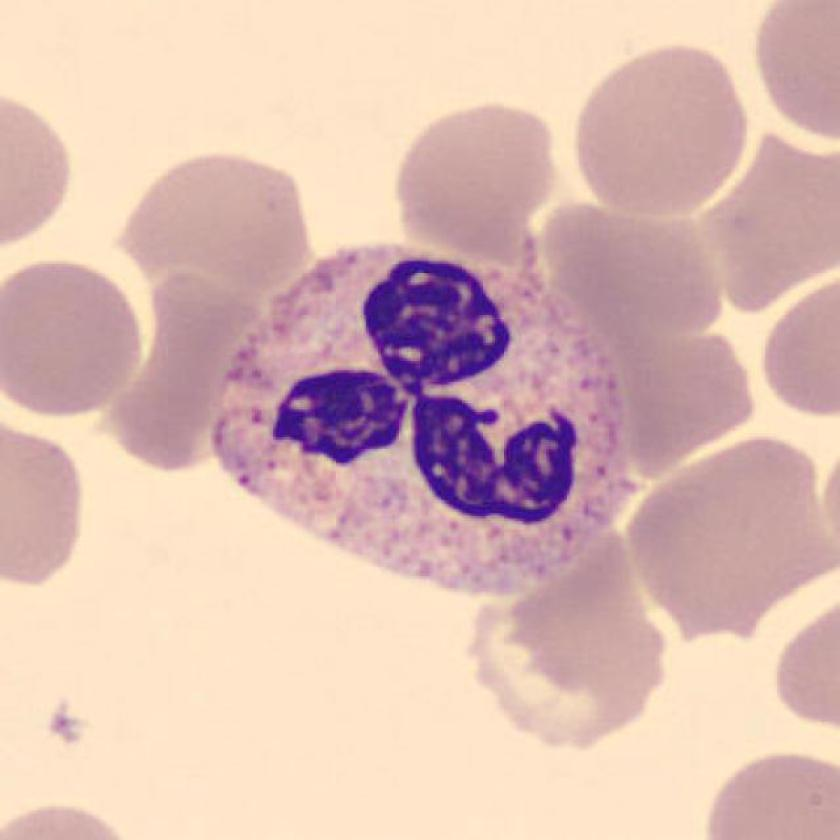neutrophil: (208, 245, 639, 600)
